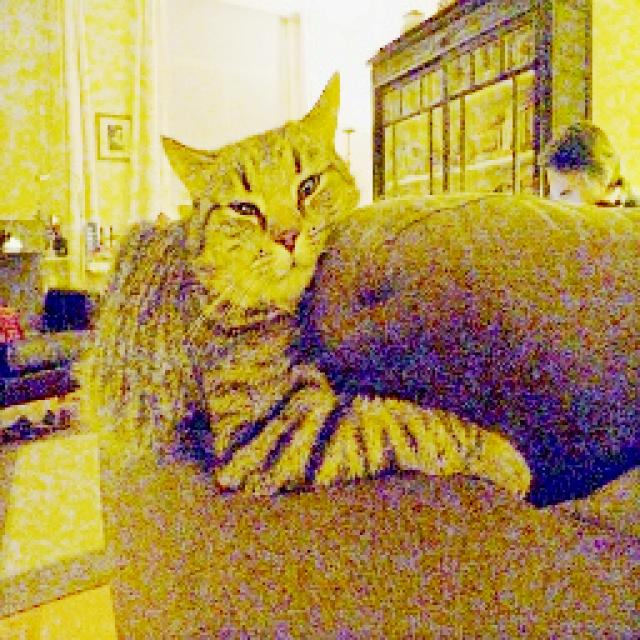cat: (48, 66, 570, 522)
